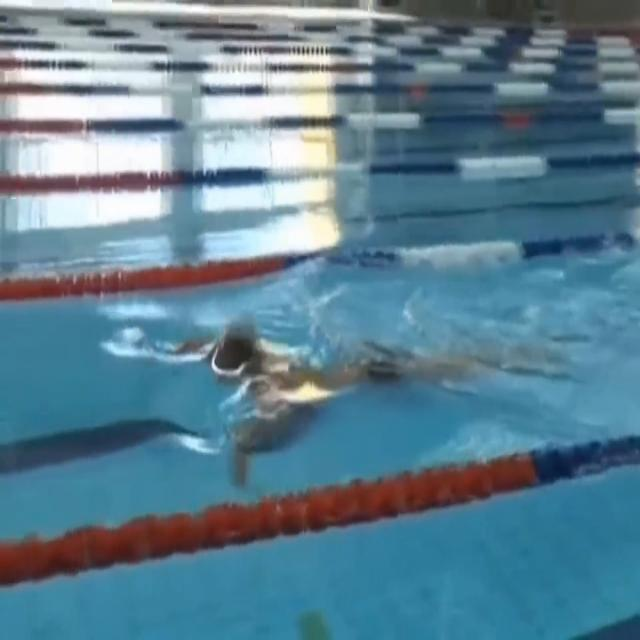Swimming: (140, 314, 555, 468)
